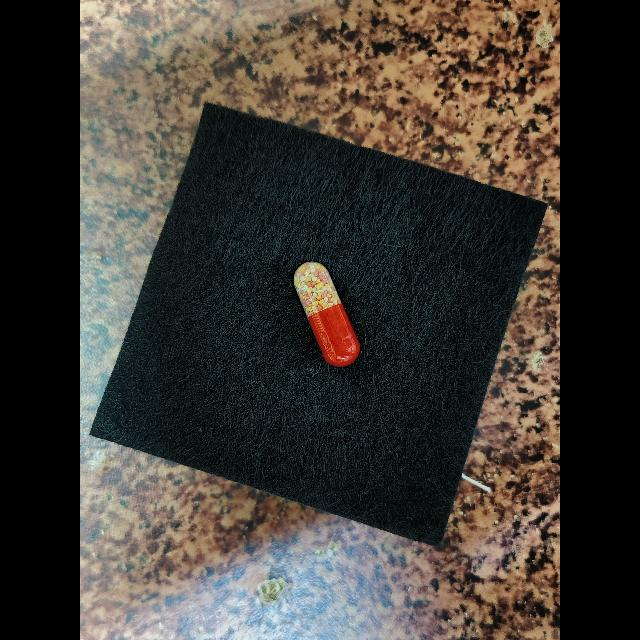Intact Capsule: (294, 261, 360, 366)
